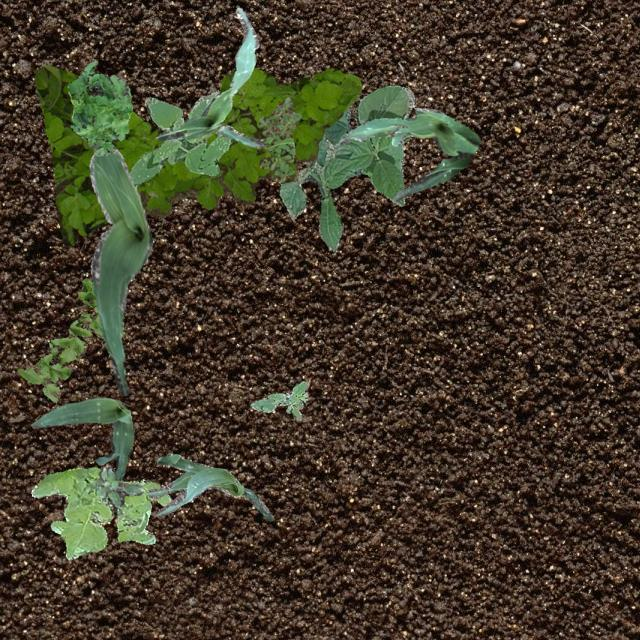crop: (278, 84, 414, 250), (88, 146, 152, 394), (155, 7, 265, 146), (336, 106, 479, 200), (30, 396, 134, 480), (144, 454, 272, 520)
weed: (34, 64, 362, 244), (15, 278, 124, 402), (30, 466, 170, 558), (128, 90, 232, 186), (66, 59, 132, 154), (258, 96, 300, 182), (248, 380, 308, 420), (94, 466, 142, 506)
